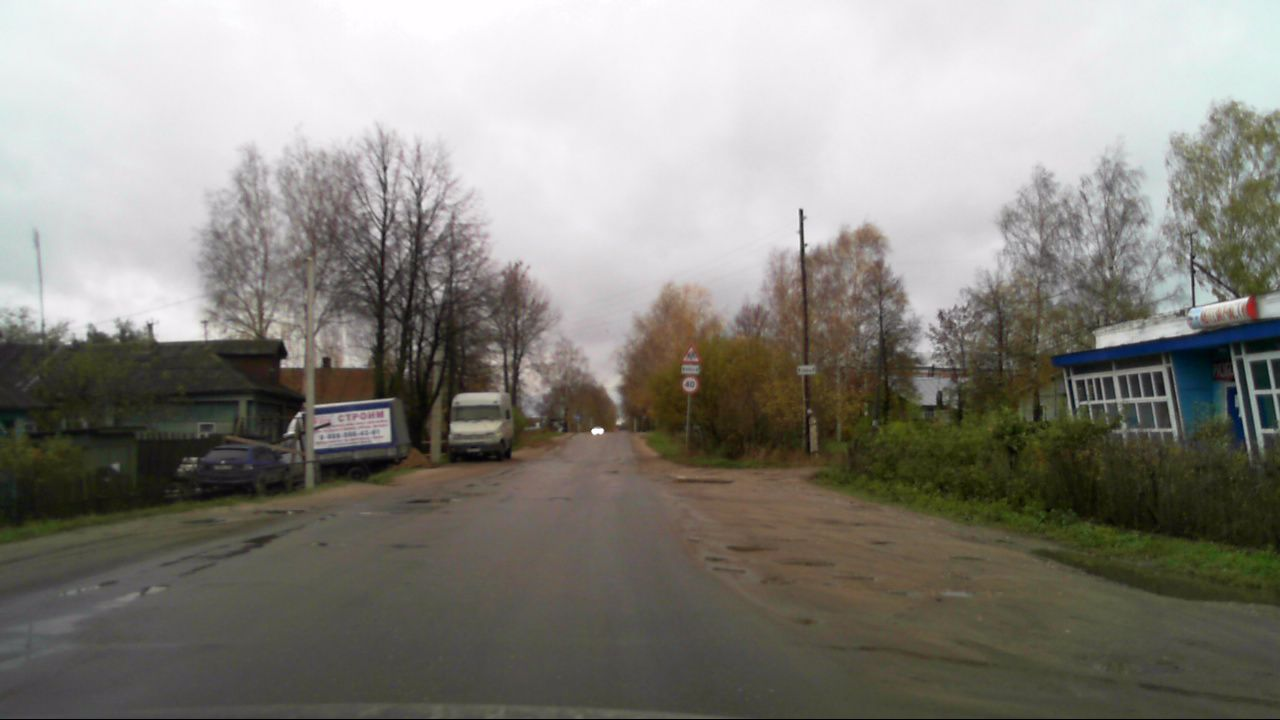speed_warning_40: (679, 374, 700, 395)
